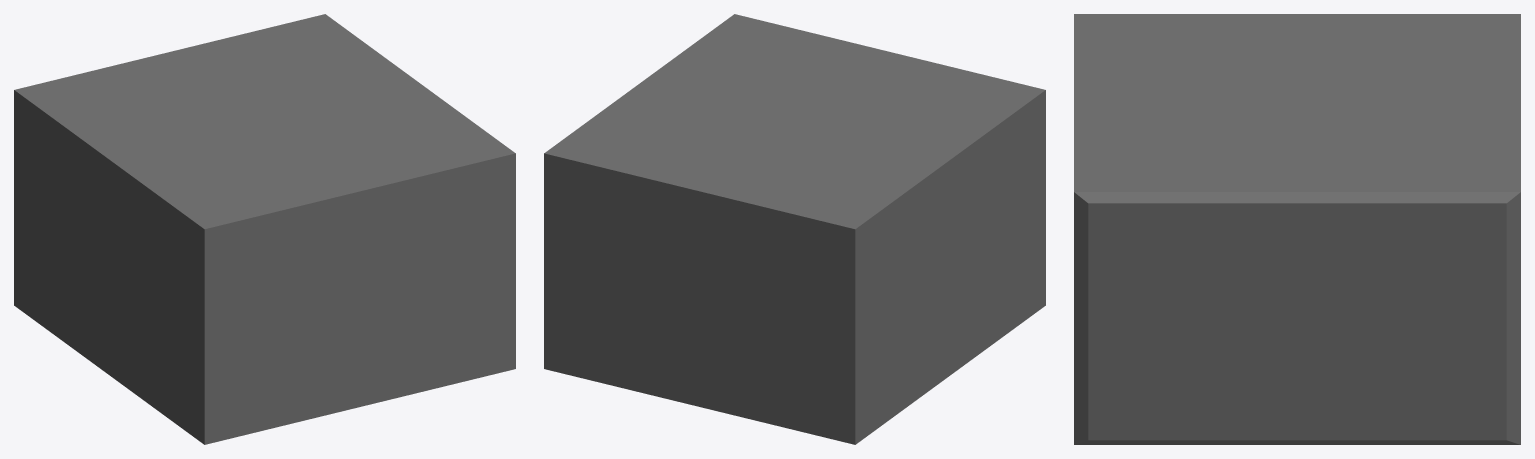
The model's file is Itr_Couch_Inside_Seat_Left_03.FBX.
The picture shows the model from 3 angles, left to right: view 1: azimuth 30°, elevation 25°; view 2: azimuth 150°, elevation 25°; view 3: azimuth 270°, elevation 25°; orthographic projection. The views are drawn at different scales.
Parts seen in each view (by area): view 1: Itr_Couch_Inside_Seat_Left_03; view 2: Itr_Couch_Inside_Seat_Left_03; view 3: Itr_Couch_Inside_Seat_Left_03.
Boxes of the visible parts, box(x1,y1,x2,y2) form: Itr_Couch_Inside_Seat_Left_03: box(14, 14, 515, 444); Itr_Couch_Inside_Seat_Left_03: box(544, 14, 1045, 444); Itr_Couch_Inside_Seat_Left_03: box(1074, 14, 1520, 444).
Size of the model in its own units: 18.92 by 12.29 by 19.68.
